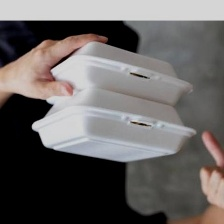foam_box: (27, 83, 198, 166), (39, 40, 195, 122)
